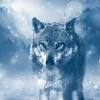Lobo: (26, 15, 94, 99)
